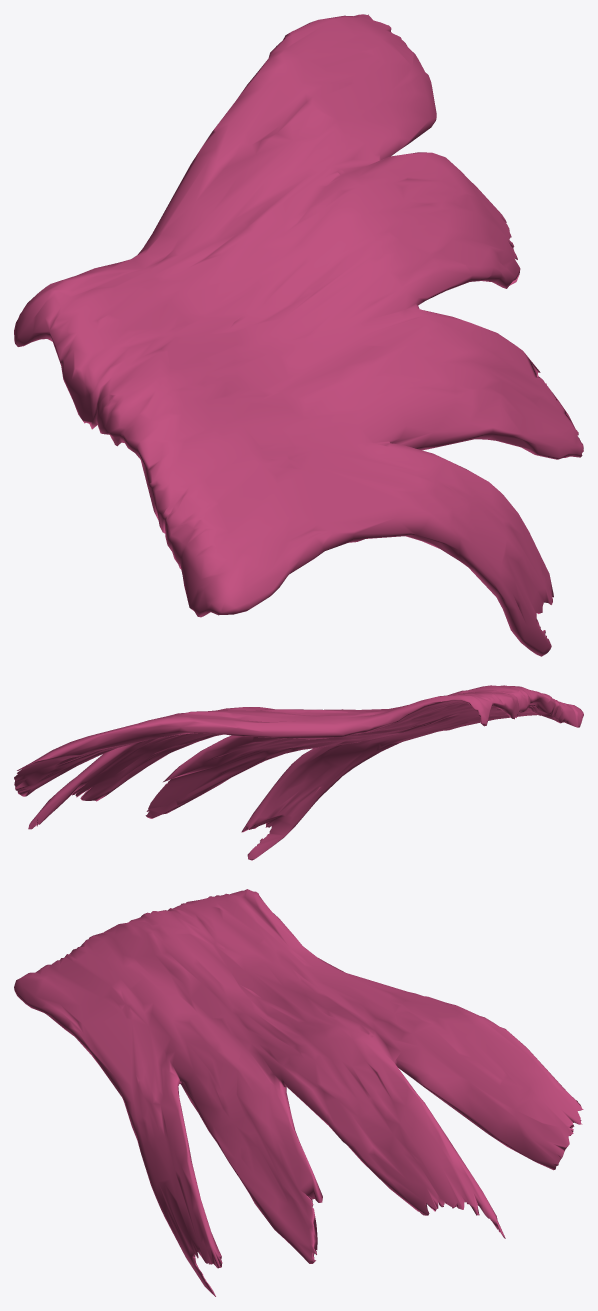
The picture shows the model from 3 angles, top to bottom: view 1: azimuth 30°, elevation 25°; view 2: azimuth 150°, elevation 25°; view 3: azimuth 270°, elevation 25°; orthographic projection. The views are drawn at different scales.
Visible parts, largest first — view 1: 左侧上后锯肌; view 2: 左侧上后锯肌; view 3: 左侧上后锯肌.
Boxes of the visible parts, x1,y1,x2,y2 form: 左侧上后锯肌: (14,14,583,656); 左侧上后锯肌: (14,685,583,860); 左侧上后锯肌: (14,889,583,1296).
Bounding box in the file's own units: 0.1554 × 0.0978 × 0.1853.
